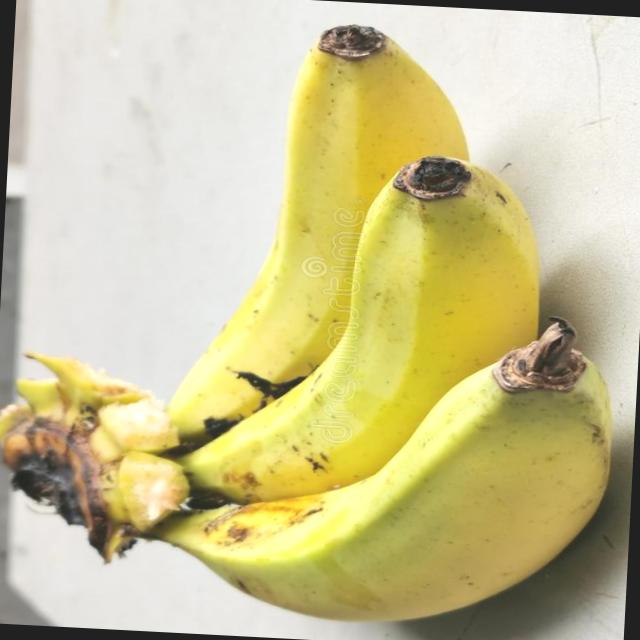Platano: (0, 4, 634, 632)
